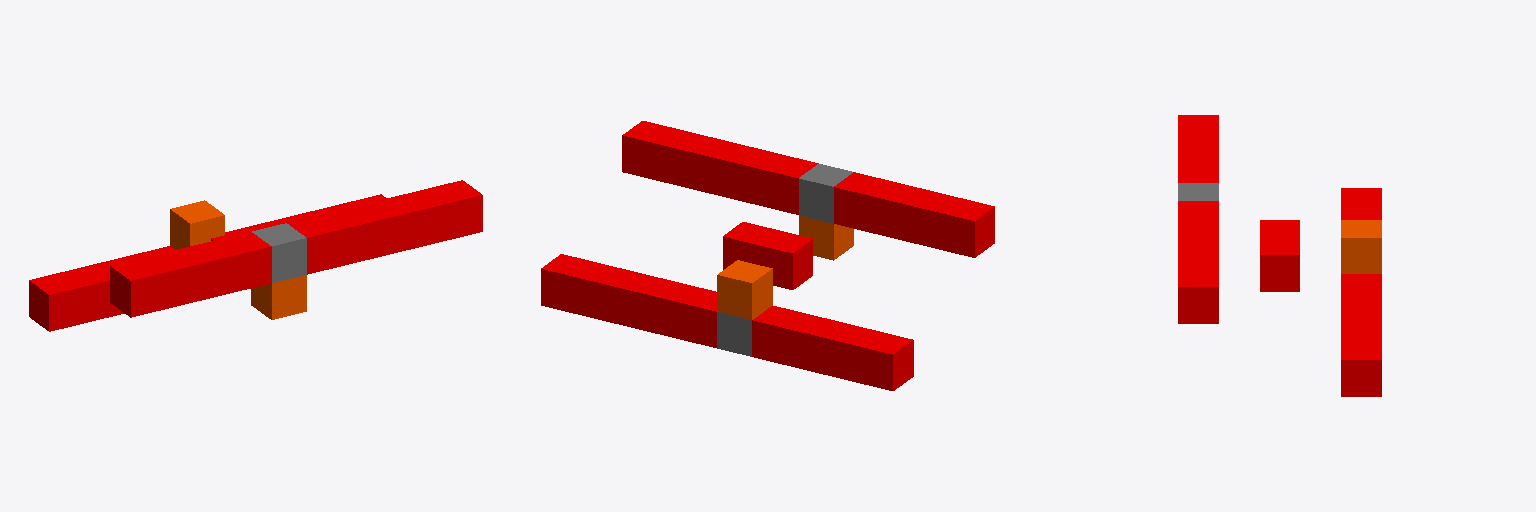
File: pauli_x_gate.obj
3 renders of one model, left to right at view 1: azimuth 30°, elevation 25°; view 2: azimuth 150°, elevation 25°; view 3: azimuth 270°, elevation 25°, orthographic.
Size of the model in its own units: 10 by 3 by 5.